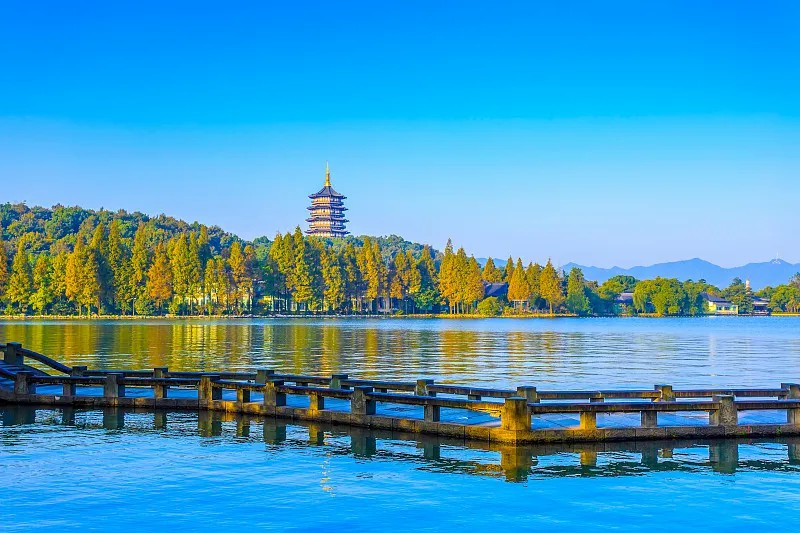Leifeng: (306, 161, 350, 243)
